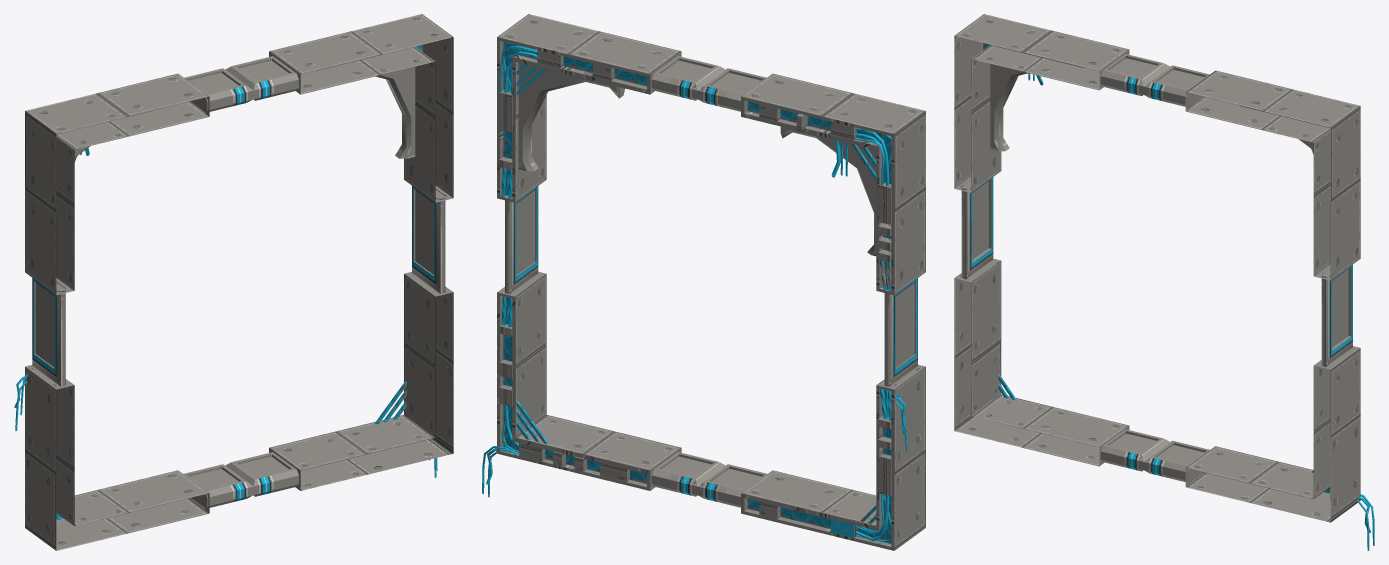
Rendered from Room1Walls.fbx.
3 renders of one model, left to right at view 1: azimuth 30°, elevation 25°; view 2: azimuth 150°, elevation 25°; view 3: azimuth 330°, elevation 25°, orthographic. The views are drawn at different scales.
Parts seen in each view (by area): view 1: CornerBase (×4), TopDoorLeft (×2), TopDoorRight (×2), RightSideDoor, LeftSideDoor, Arch; view 2: CornerBase (×4), Arch (×2), TopDoorLeft (×2), TopDoorRight (×2), RightSideDoor, LeftSideDoor, pCube4 (×3); view 3: CornerBase (×4), TopDoorRight (×2), TopDoorLeft (×2), RightSideDoor, LeftSideDoor, Arch.
Part boxes in pixels (left/top/right/bottom): CornerBase (×4): left=25, top=14, right=453, bottom=550; TopDoorLeft (×2): left=225, top=56, right=298, bottom=496; TopDoorRight (×2): left=183, top=68, right=253, bottom=508; RightSideDoor: left=32, top=278, right=65, bottom=386; LeftSideDoor: left=412, top=186, right=445, bottom=293; Arch: left=316, top=46, right=416, bottom=158; CornerBase (×4): left=497, top=14, right=925, bottom=550; Arch (×2): left=518, top=62, right=876, bottom=256; TopDoorLeft (×2): left=651, top=56, right=725, bottom=496; TopDoorRight (×2): left=697, top=68, right=767, bottom=507; RightSideDoor: left=884, top=278, right=917, bottom=386; LeftSideDoor: left=505, top=186, right=538, bottom=293; pCube4 (×3): left=499, top=89, right=891, bottom=496; CornerBase (×4): left=954, top=14, right=1360, bottom=522; TopDoorRight (×2): left=1100, top=54, right=1170, bottom=471; TopDoorLeft (×2): left=1143, top=65, right=1209, bottom=482; RightSideDoor: left=961, top=177, right=993, bottom=279; LeftSideDoor: left=1321, top=264, right=1352, bottom=366; Arch: left=989, top=44, right=1084, bottom=151.
Size of the model in its own units: 23.42 by 24.55 by 3.27.
